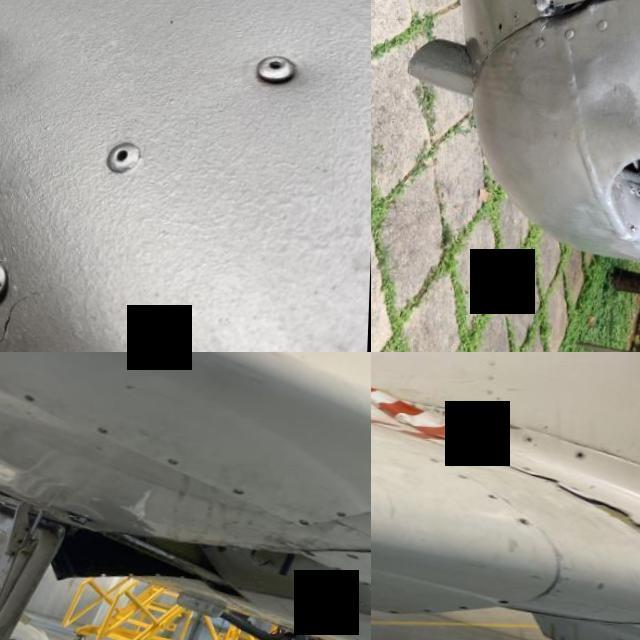Crack: (579, 486, 640, 531), (530, 466, 565, 481)
Dent: (0, 0, 37, 116)
Missing_Fastener: (519, 510, 536, 520), (574, 442, 591, 451), (522, 428, 537, 438), (235, 482, 248, 492), (392, 603, 406, 612), (301, 512, 313, 521), (497, 592, 515, 598), (458, 598, 475, 604), (336, 559, 346, 567), (349, 546, 362, 552), (337, 504, 348, 511), (307, 545, 318, 552), (424, 602, 436, 608), (489, 488, 503, 493), (365, 574, 371, 581)
